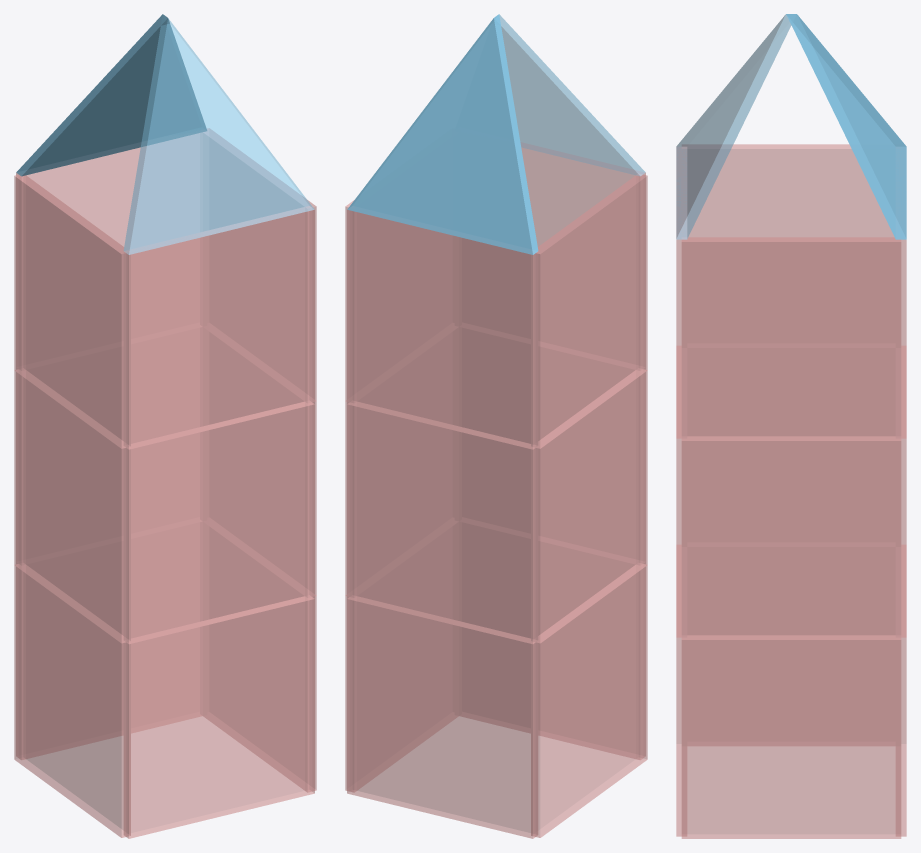
The model's file is torre_step15.glb.
3 renders of one model, left to right at view 1: azimuth 30°, elevation 25°; view 2: azimuth 150°, elevation 25°; view 3: azimuth 270°, elevation 25°, orthographic. The views are drawn at different scales.
Parts seen in each view (by area): view 1: qN.002, qN, qN.001, qS.002, qS, qS.001, qW.002, qW.001, qW, tri_N, qE.002, qE (+2 smaller); view 2: qS, qS.001, qS.002, qN, qN.001, qN.002, qW.002, qW, qW.001, tri_S, qE, qE.001 (+2 smaller); view 3: qE.002, qE, qE.001, qW, qW.001, qW.002, tri_S, tri_N, qN.002, qN, qS, qN.001 (+2 smaller).
Boxes of the visible parts, <box> form: qN.002: <box>124,206,314,449</box>; qN: <box>124,596,314,838</box>; qN.001: <box>124,402,314,643</box>; qS.002: <box>16,133,202,370</box>; qS: <box>16,522,202,759</box>; qS.001: <box>16,328,201,565</box>; qW.002: <box>14,174,130,448</box>; qW.001: <box>14,369,130,643</box>; qW: <box>14,564,130,837</box>; tri_N: <box>123,15,314,254</box>; qE.002: <box>204,128,316,402</box>; qE: <box>203,525,316,792</box>; qS: <box>347,596,537,838</box>; qS.001: <box>347,402,537,643</box>; qS.002: <box>347,210,537,449</box>; qN: <box>459,522,645,759</box>; qN.001: <box>460,328,645,565</box>; qN.002: <box>459,142,645,370</box>; qW.002: <box>531,174,647,448</box>; qW: <box>531,564,647,837</box>; qW.001: <box>531,369,647,643</box>; tri_S: <box>347,14,538,254</box>; qE: <box>345,525,458,792</box>; qE.001: <box>345,330,458,597</box>; qE.002: <box>681,237,901,440</box>; qE: <box>681,635,901,838</box>; qE.001: <box>681,436,901,639</box>; qW: <box>687,547,895,745</box>; qW.001: <box>687,348,895,546</box>; qW.002: <box>682,144,895,347</box>; tri_S: <box>786,14,906,239</box>; tri_N: <box>676,14,796,239</box>; qN.002: <box>676,147,686,438</box>; qN: <box>676,545,686,836</box>; qS: <box>896,545,906,836</box>; qN.001: <box>676,346,686,637</box>.
Size of the model in its own units: 1.05 by 3.9 by 1.05.
